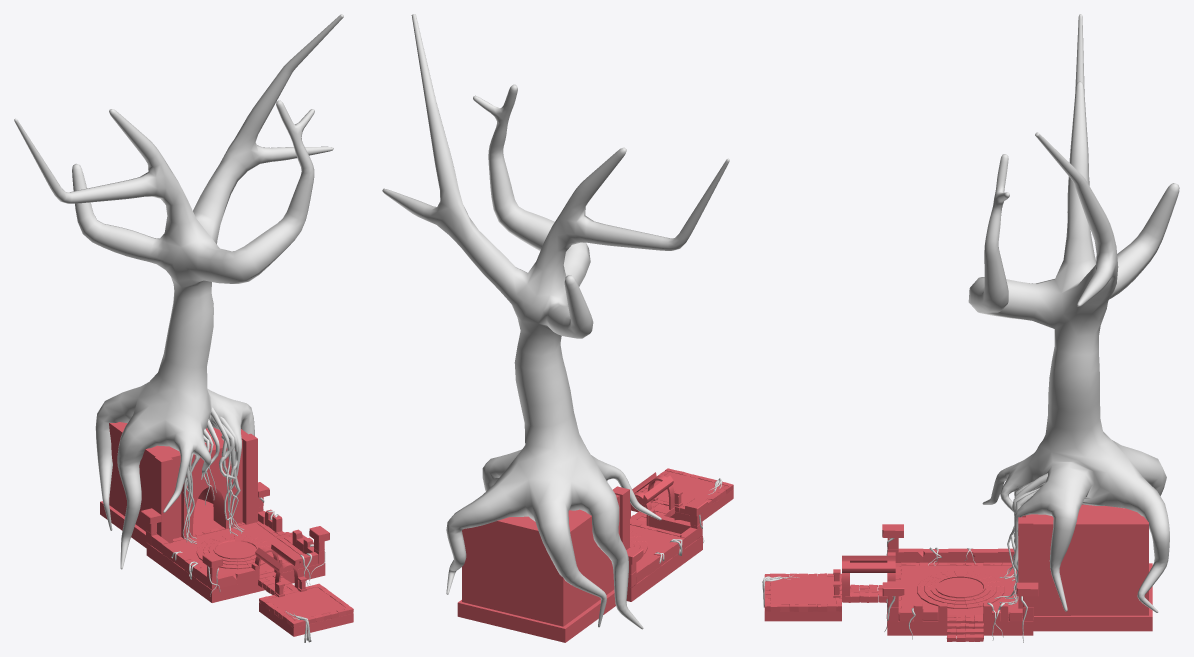
The model's file is WolfdenDenBase.fbx.
3 views of the same model, side by side, from view 1: azimuth 30°, elevation 25°; view 2: azimuth 150°, elevation 25°; view 3: azimuth 270°, elevation 25° (orthographic). The views are drawn at different scales.
Visible parts, largest first — view 1: Plane.007, Plane, Cube.052, Cube.051, BezierCurve, Plane.005, Cube.056, Plane.004, Cube.034, Circle.001, Cube.008, Cube.010 (+1 smaller); view 2: Plane.007, Cube.052, Plane.004, Plane, Plane.005, Cube.034, Cube.051, Cube.031; view 3: Plane.007, Cube.052, Plane, Plane.005, Plane.004, Cube.034, BezierCurve, Cube.051, Cube.031, Circle.001, Cube.010, Cube.055 (+1 smaller).
Part boxes in pixels (box(x1,y1,x2,y2)): Plane.007: box(14, 14, 343, 569); Plane: box(146, 522, 325, 602); Cube.052: box(109, 422, 247, 538); Cube.051: box(154, 433, 257, 543); BezierCurve: box(182, 407, 243, 544); Plane.005: box(259, 587, 353, 636); Cube.056: box(181, 445, 235, 539); Plane.004: box(100, 498, 219, 548); Cube.034: box(151, 534, 206, 585); Circle.001: box(213, 539, 257, 559); Cube.008: box(259, 583, 353, 628); Cube.010: box(196, 535, 273, 569); Plane.007: box(382, 14, 729, 629); Cube.052: box(462, 494, 619, 626); Plane.004: box(457, 590, 615, 642); Plane: box(626, 518, 702, 601); Plane.005: box(631, 472, 733, 521); Cube.034: box(636, 527, 697, 583); Cube.051: box(613, 486, 629, 549); Cube.031: box(632, 472, 673, 503); Plane.007: box(968, 14, 1179, 612); Cube.052: box(1026, 504, 1148, 615); Plane: box(887, 563, 1033, 635); Plane.005: box(764, 576, 841, 621); Plane.004: box(1033, 563, 1152, 631); Cube.034: box(898, 548, 1014, 562); BezierCurve: box(994, 473, 1047, 605); Cube.051: box(1018, 517, 1033, 615); Cube.031: box(842, 555, 895, 572); Circle.001: box(935, 576, 985, 598); Cube.010: box(917, 571, 1004, 608); Cube.055: box(770, 573, 836, 611).
Size of the model in its own units: 15513 by 23575 by 15760.
